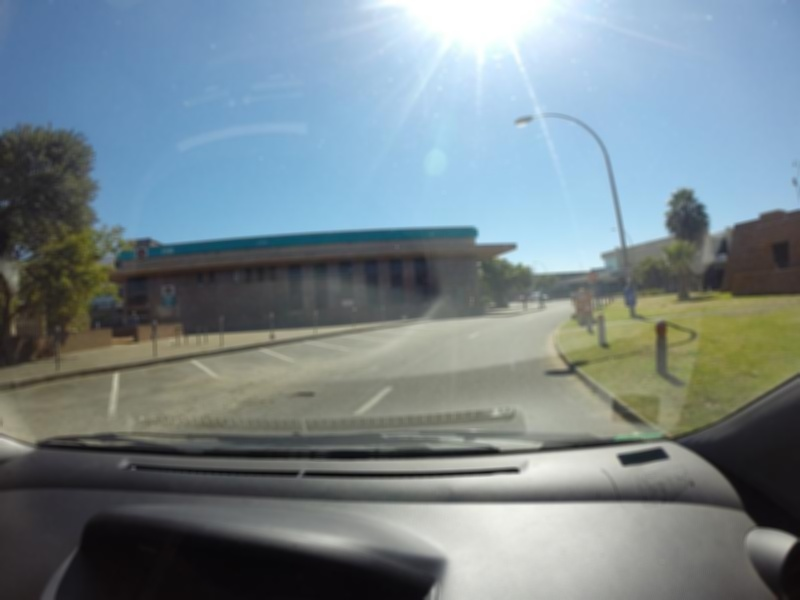pothole: (290, 388, 332, 401)
